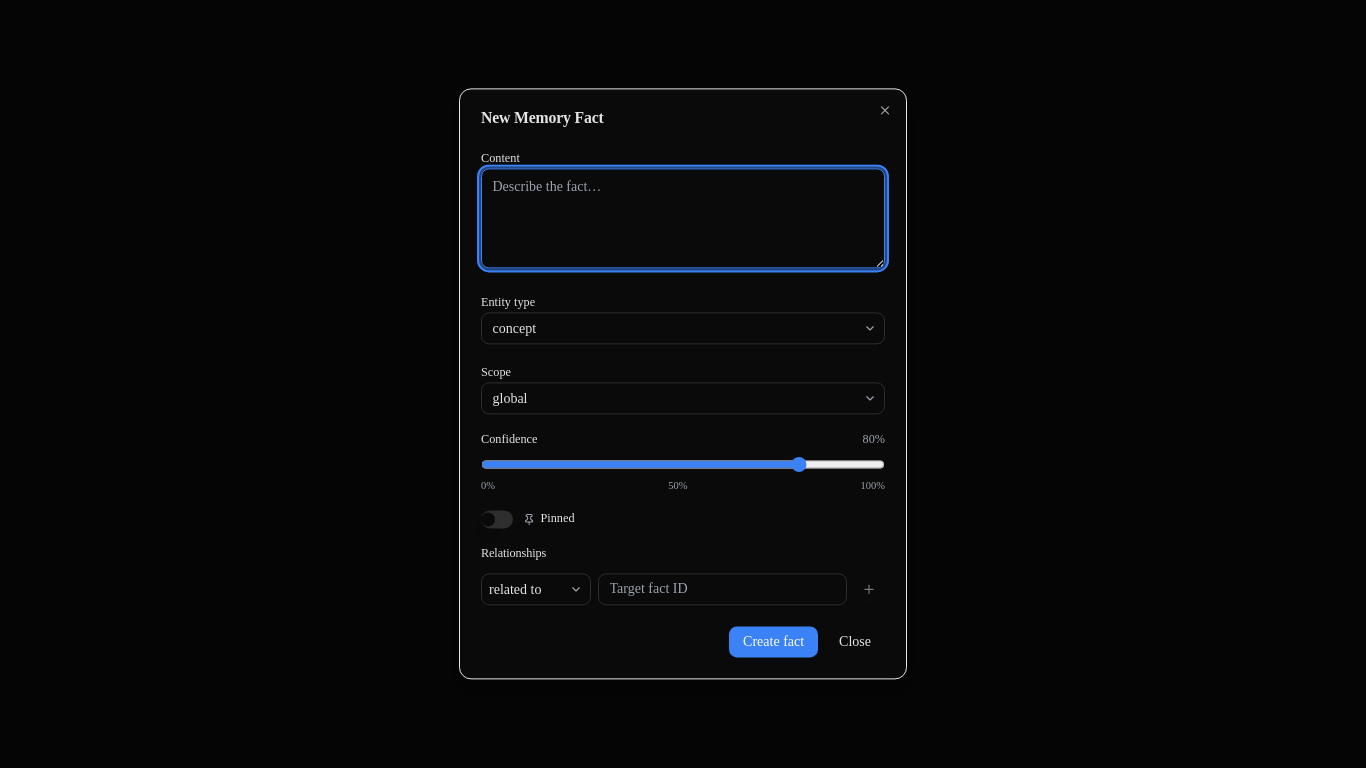
Test: FactEditorModal — create mode › shows validation error when content is empty and save is clicked
Click the button "Create fact" at (774, 642), box [729,626,818,658]
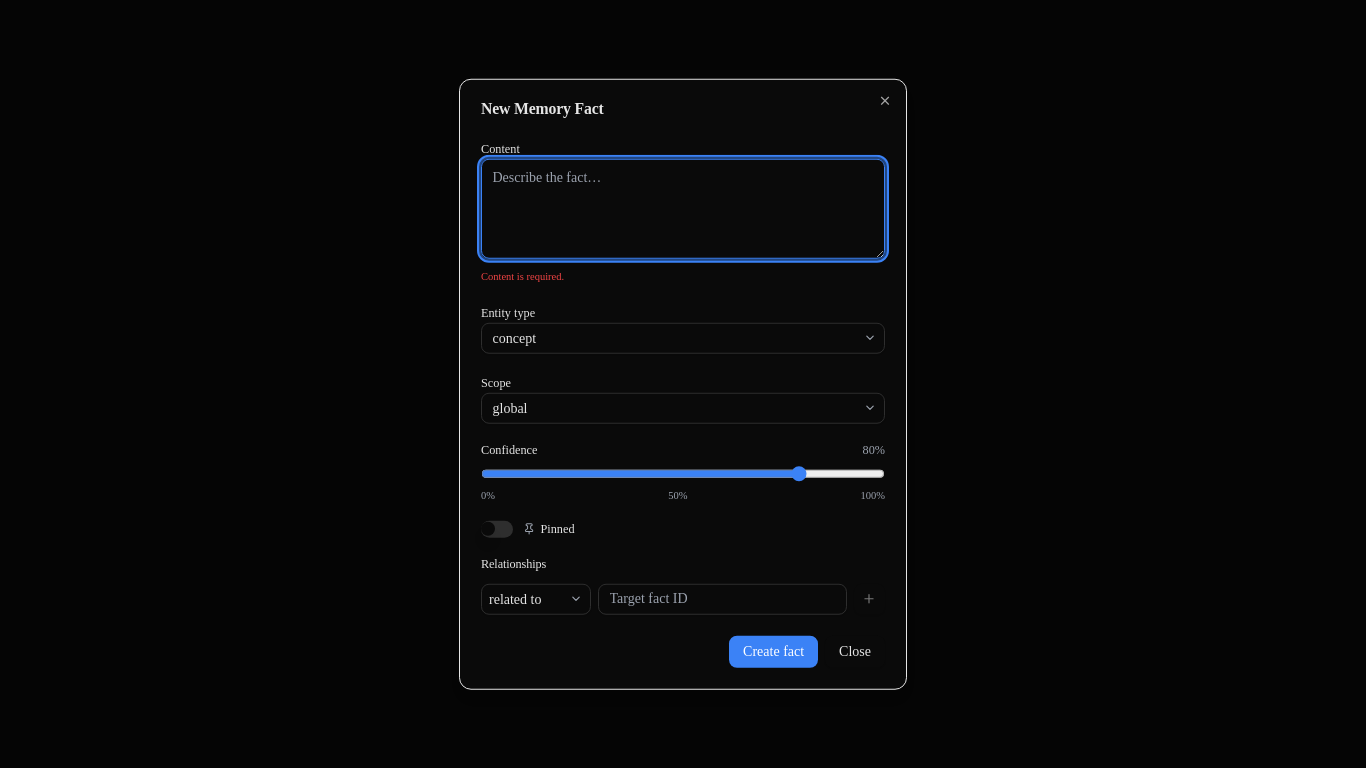
expect the text "Content is required." is shown: met, box [481,271,564,282]
